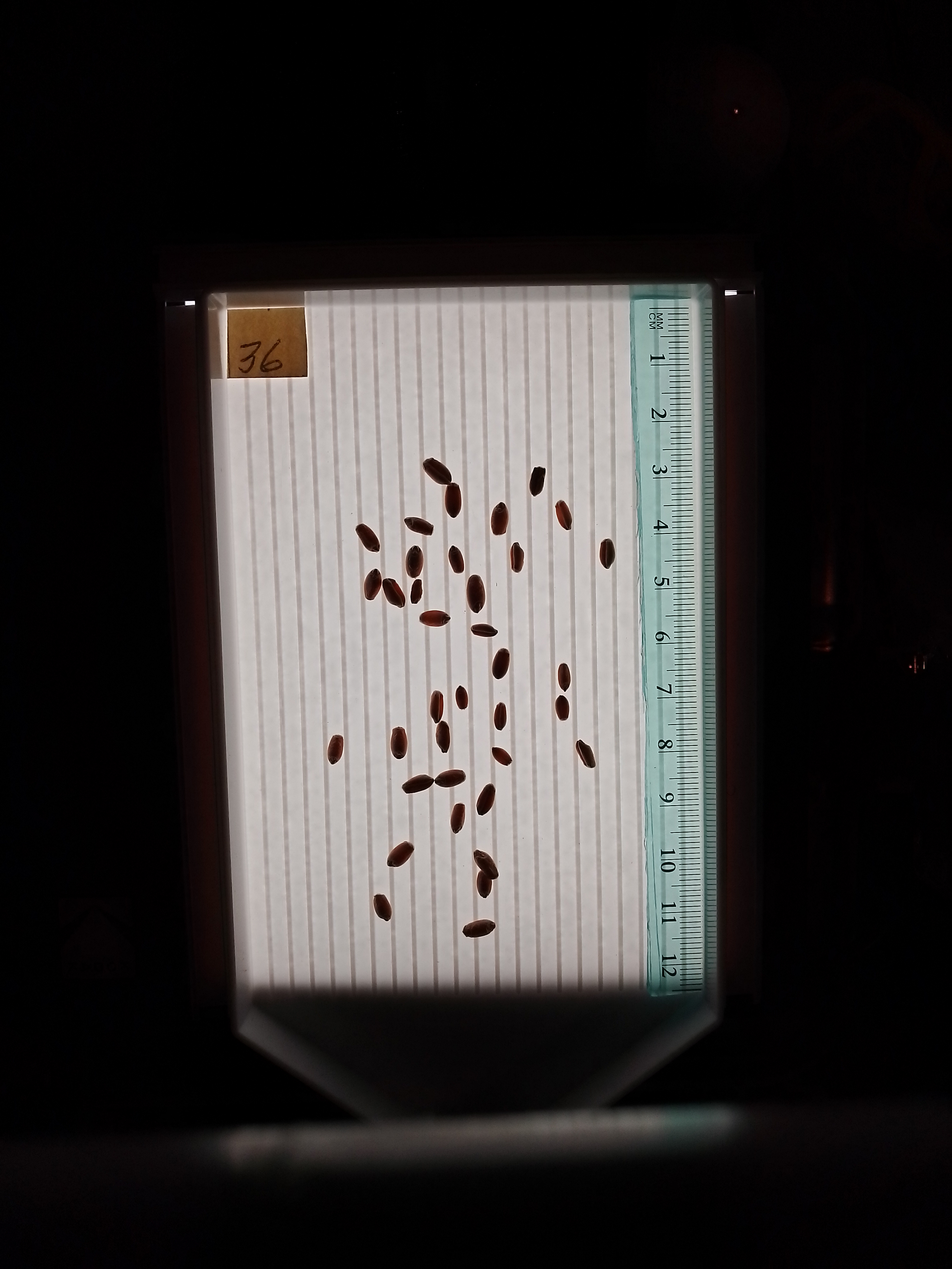seed mask: (424, 458, 452, 485), (466, 576, 486, 612), (474, 850, 498, 879), (356, 524, 380, 553), (387, 842, 413, 867), (403, 774, 434, 794), (383, 578, 405, 606), (435, 769, 465, 789), (463, 919, 495, 937), (477, 785, 496, 815), (405, 546, 423, 577), (491, 503, 508, 535), (364, 571, 383, 599), (445, 483, 461, 516), (390, 727, 407, 758), (576, 741, 595, 768), (492, 650, 510, 678), (420, 610, 449, 627), (327, 735, 344, 764), (555, 501, 572, 530), (374, 894, 392, 921), (406, 517, 433, 535), (599, 539, 615, 569), (529, 467, 546, 495), (450, 804, 465, 833), (448, 547, 464, 574), (436, 723, 450, 752), (431, 691, 444, 722), (510, 544, 524, 572), (477, 872, 492, 898), (493, 704, 507, 730), (492, 747, 512, 765), (472, 624, 497, 638), (558, 664, 571, 690), (555, 696, 569, 720), (410, 581, 423, 604), (455, 686, 468, 709)
